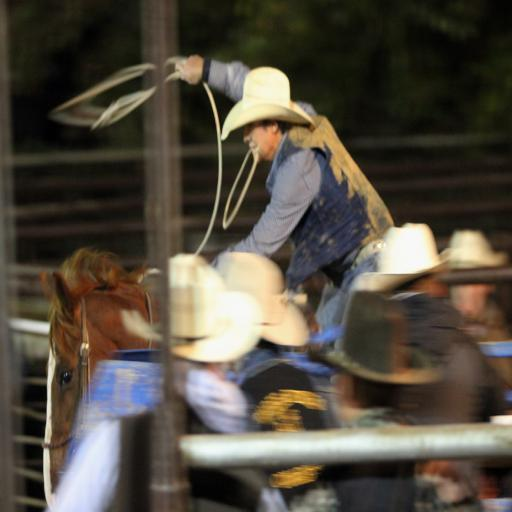horse: (40, 242, 164, 512)
